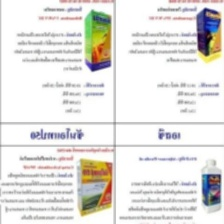book: (75, 156, 117, 218)
carton: (82, 8, 113, 73), (193, 5, 223, 66)
insecticide: (199, 158, 224, 216)
